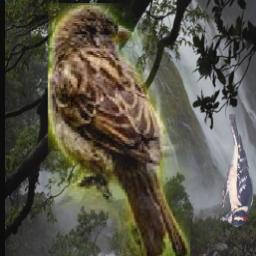Sparrow: (47, 4, 189, 256)
Woodpecker: (219, 114, 254, 228)
